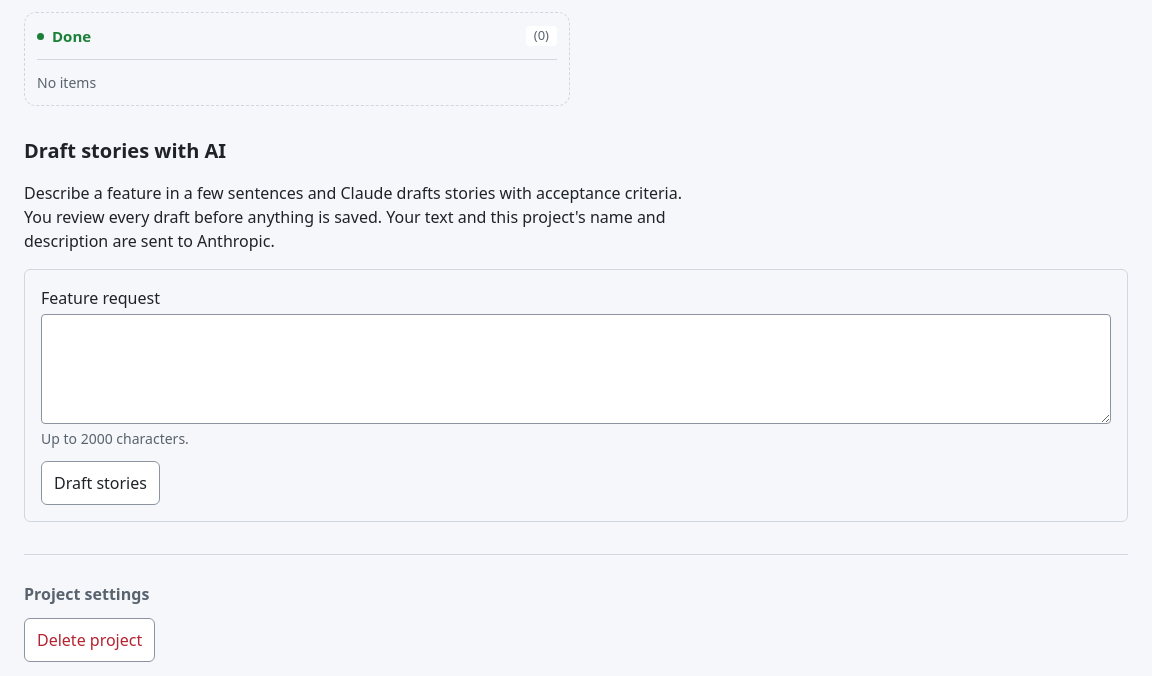
Scenario: AI story drafter › blocks adding a draft whose title is too long until it is edited
The width and height of the screenshot is (1152, 676).
(page scrolled)
Step 1. Type "Long one" into the text box labelled "Feature request" → (576, 369), box x1=41 y1=314 x2=1111 y2=424
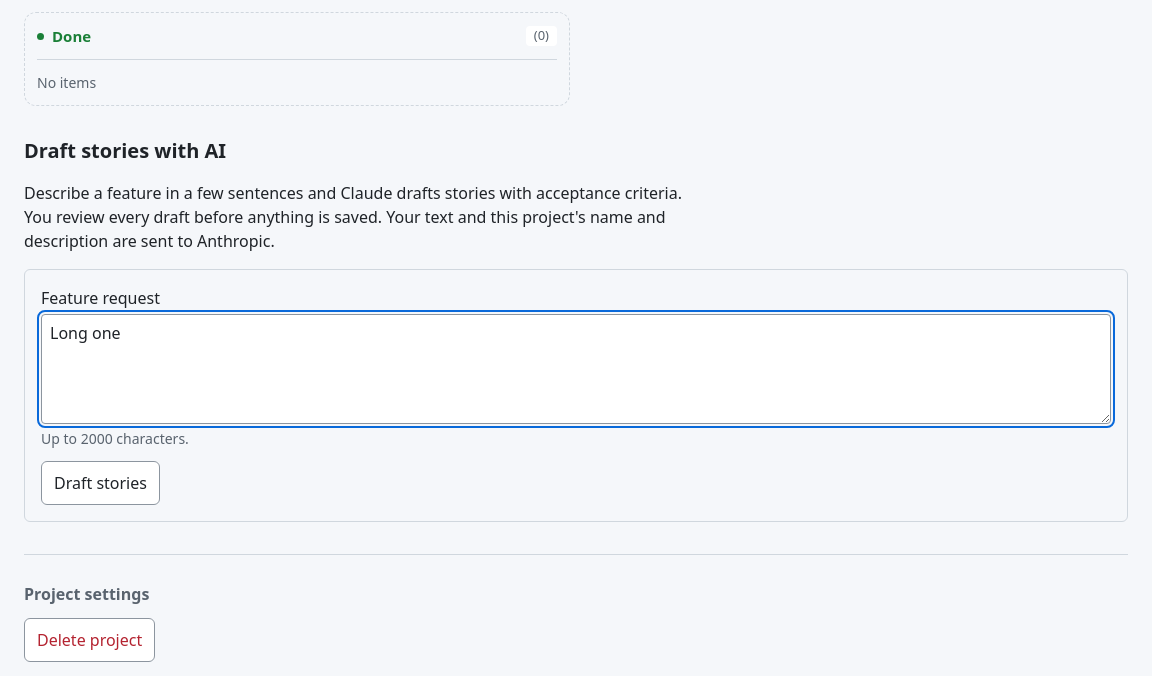
Step 2. Click the button "Draft stories" → click(100, 483), box x1=41 y1=461 x2=160 y2=505
(page scrolled)
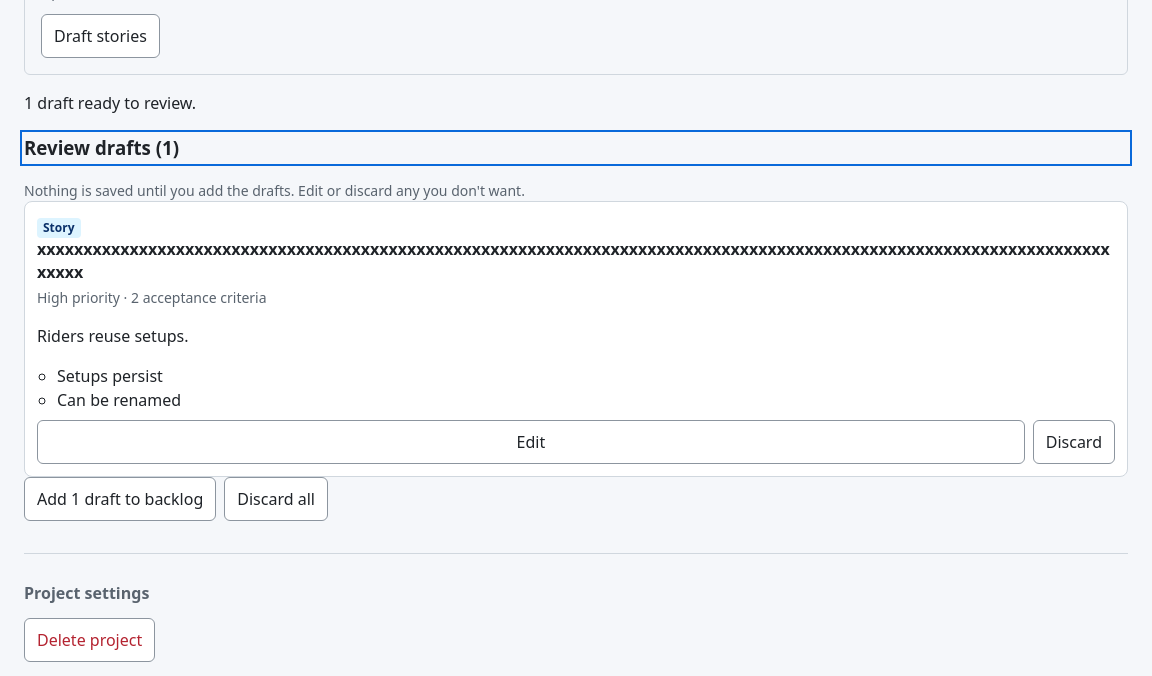
Step 3. Click the button "Add 1 draft to backlog" → click(120, 499), box x1=24 y1=477 x2=216 y2=521
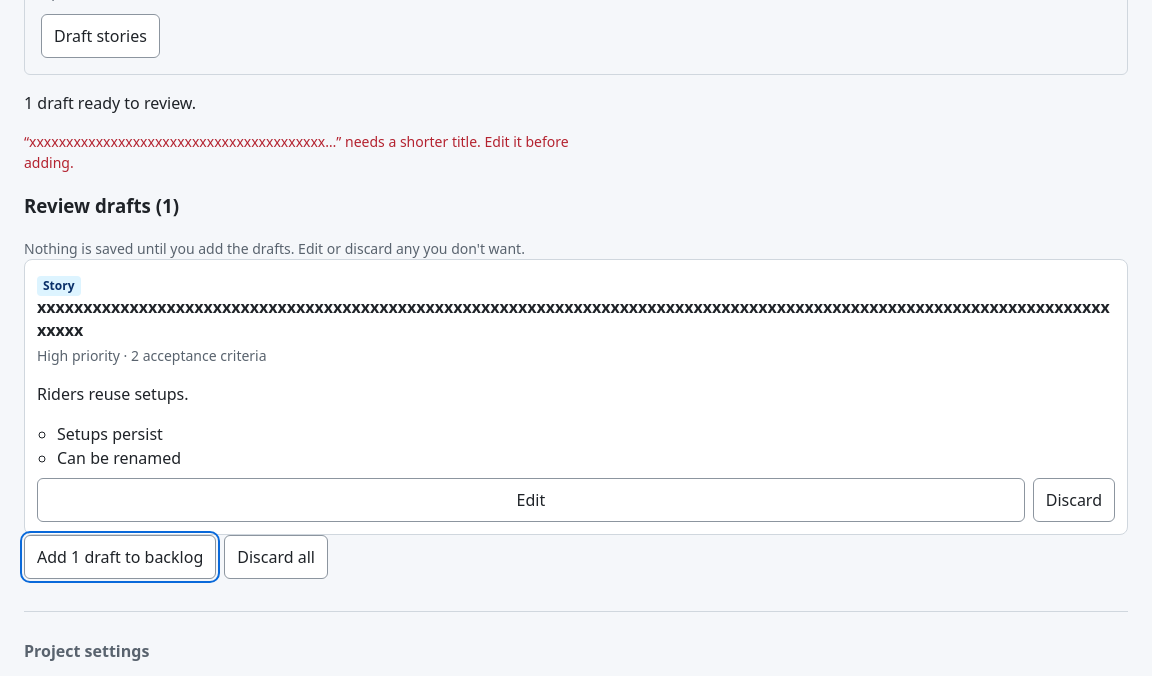
Check: the 2nd message shows "needs a shorter title. Edit it before adding.", box x1=24 y1=132 x2=569 y2=172
